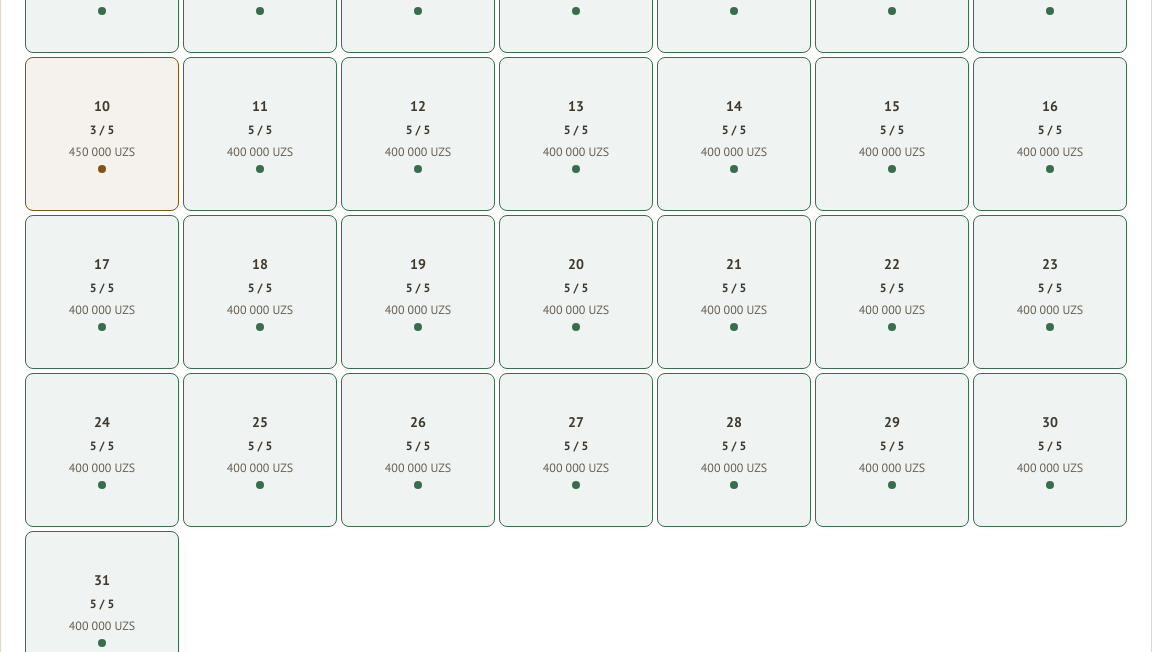
PartnerRoomCalendar upgrade › prices of a rate plan › does not accept an empty, zero-less or negative price
(page scrolled)
Expected: the text "3 / 5" is shown, [90,120,114,138]
Click the button "20 5 / 5 400 000 UZS" at (576, 292), box [499,215,653,369]
(page scrolled)
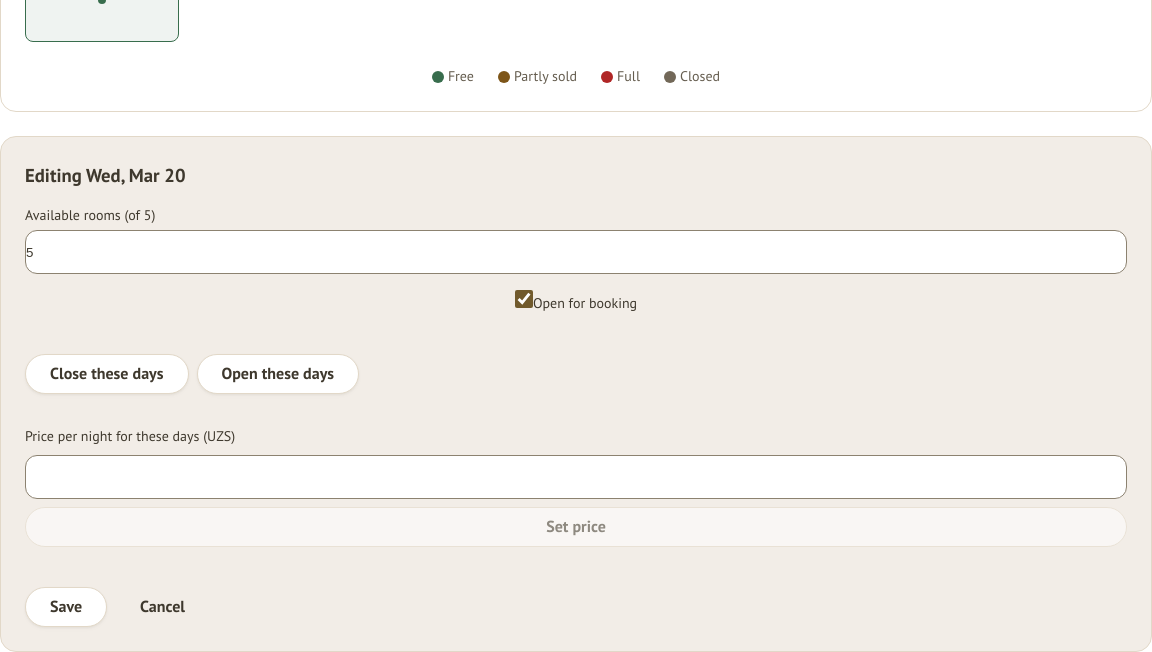
Clear the field labelled "Price per night for these days (UZS)" at (576, 477), box [25,455,1127,499]
Expected: the button "Set price" is disabled, [25,507,1127,547]
Type "-5" into the field labelled "Price per night for these days (UZS)" at (576, 477), box [25,455,1127,499]
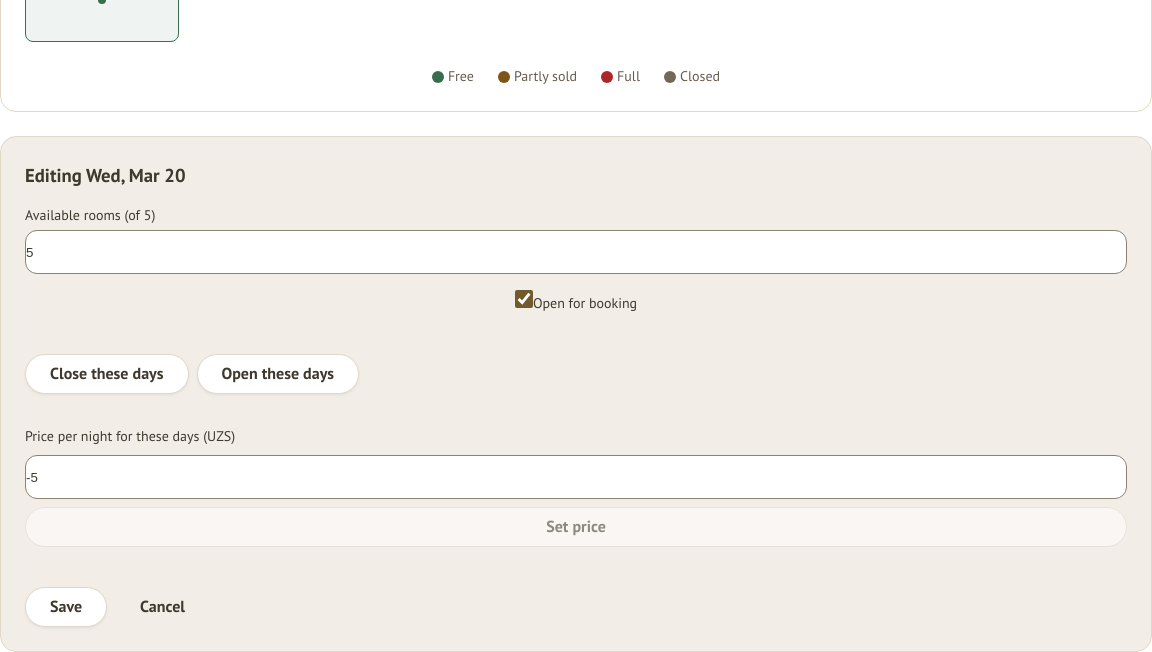
Expected: the button "Set price" is disabled, [25,507,1127,547]
Replace the text in the field labelled "Price per night for these days (UZS)" with "abc" at (576, 477), box [25,455,1127,499]
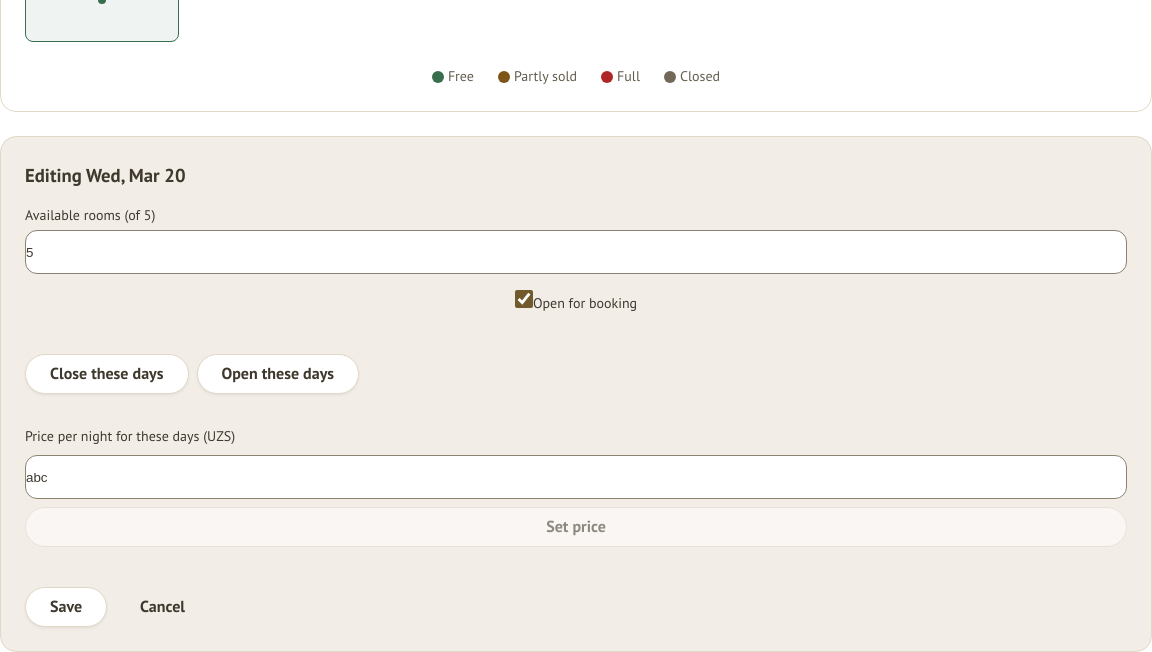
Expected: the button "Set price" is disabled, [25,507,1127,547]
Replace the text in the field labelled "Price per night for these days (UZS)" with "0" at (576, 477), box [25,455,1127,499]
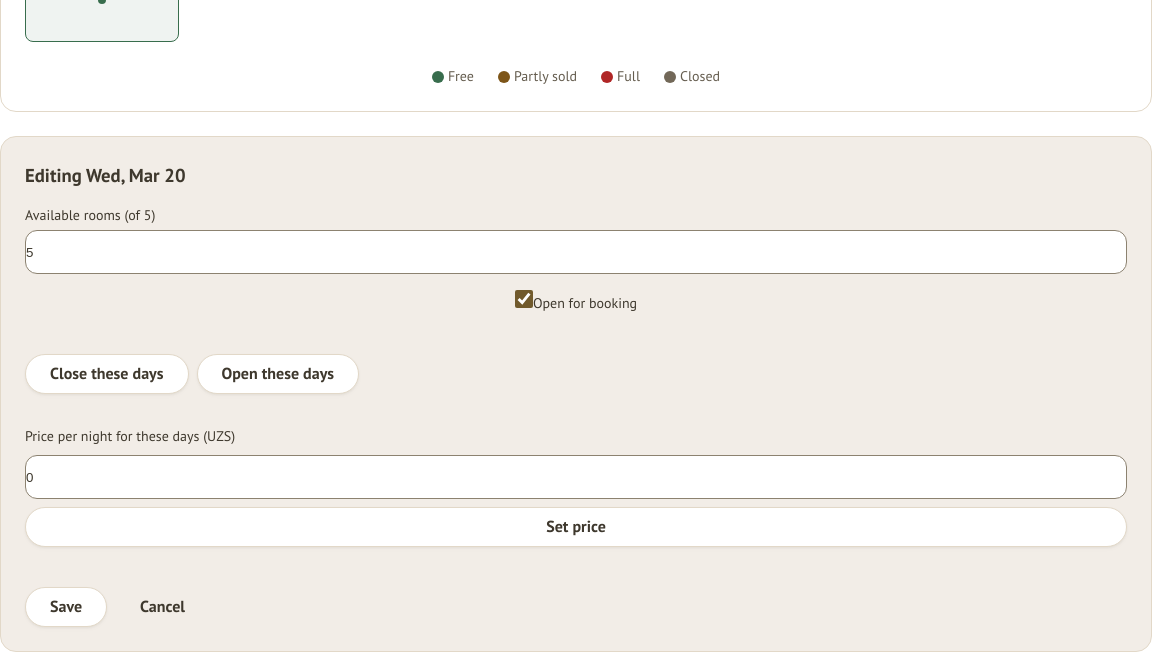
Expected: the button "Set price" is enabled, [25,507,1127,547]
